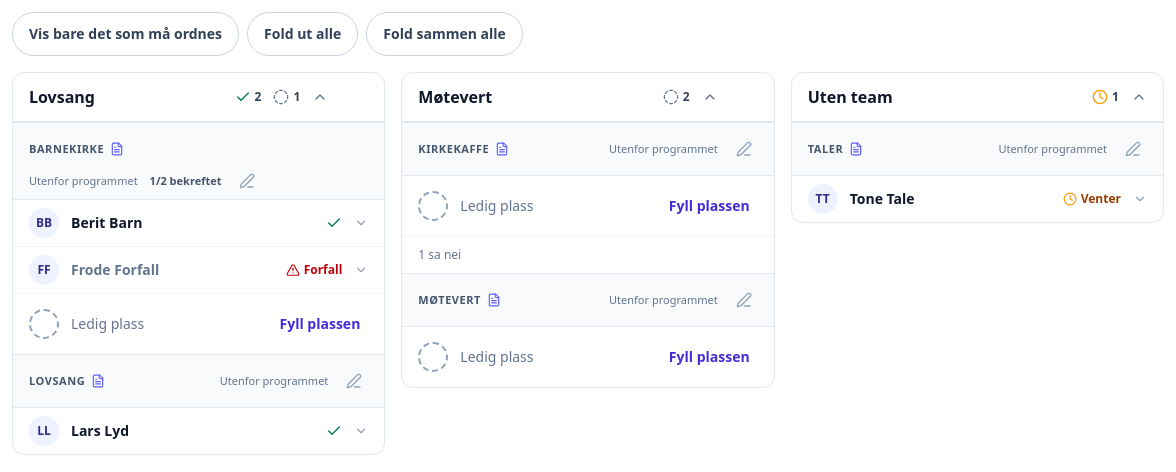
Test: Ledig plass › Escape og et nytt trykk på «Fyll plassen» lukker valget
Click the 3rd button "Fyll plassen" at (709, 357), box [661, 335, 758, 379]
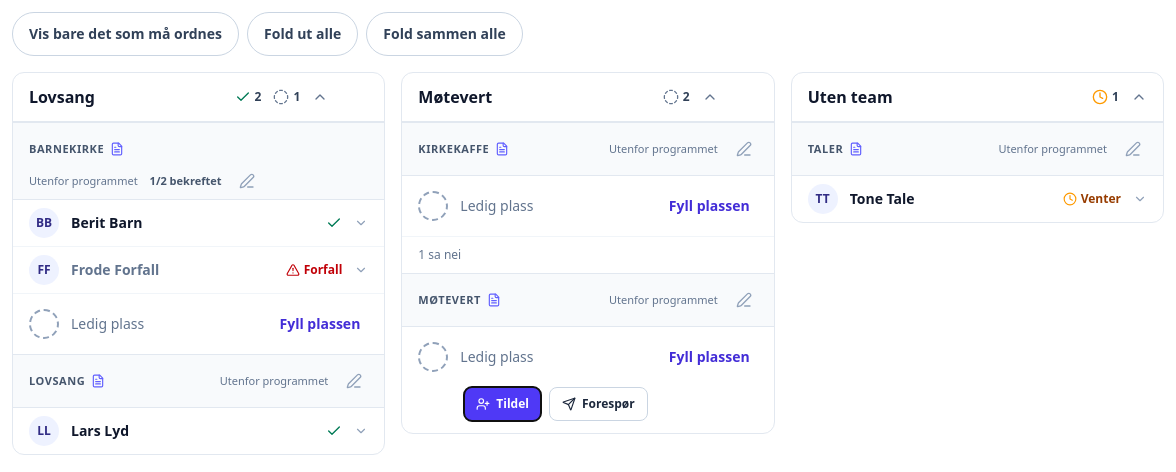
Result: the button "Tildel" is shown at [464, 387, 541, 421]
Press Escape
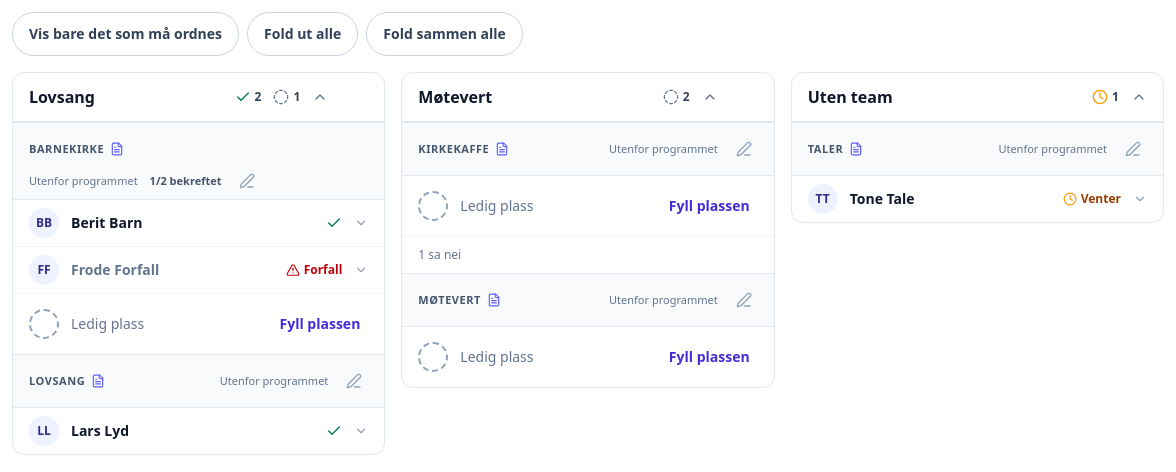
Result: the button "Tildel" is gone
Click the 3rd button "Fyll plassen" at (709, 357), box [661, 335, 758, 379]
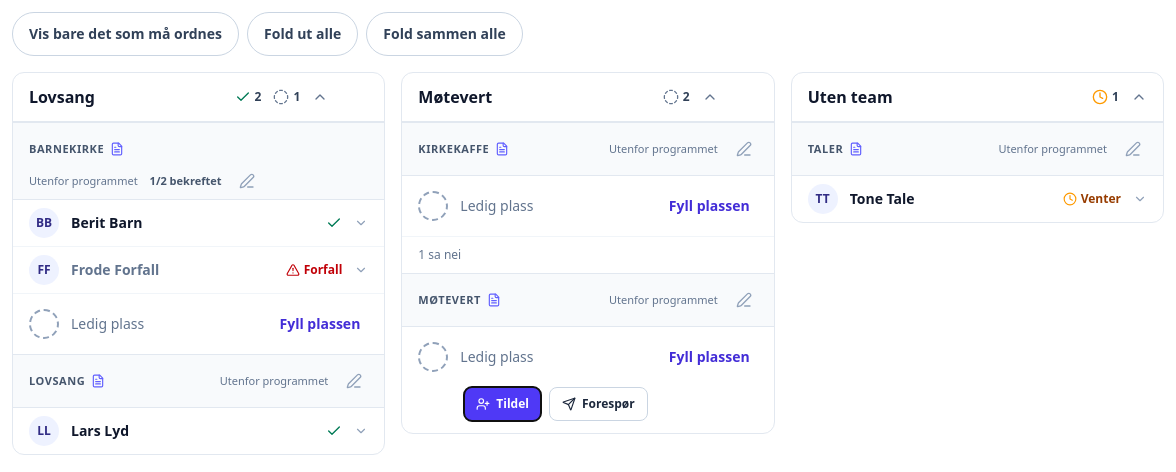
Click the 3rd button "Fyll plassen" at (709, 357), box [661, 335, 758, 379]
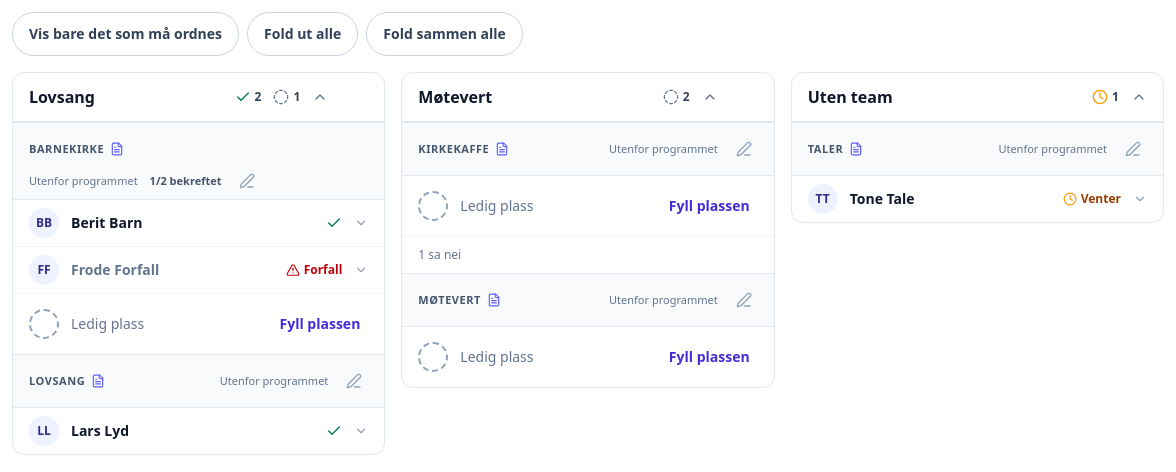
Result: the button "Tildel" is gone
